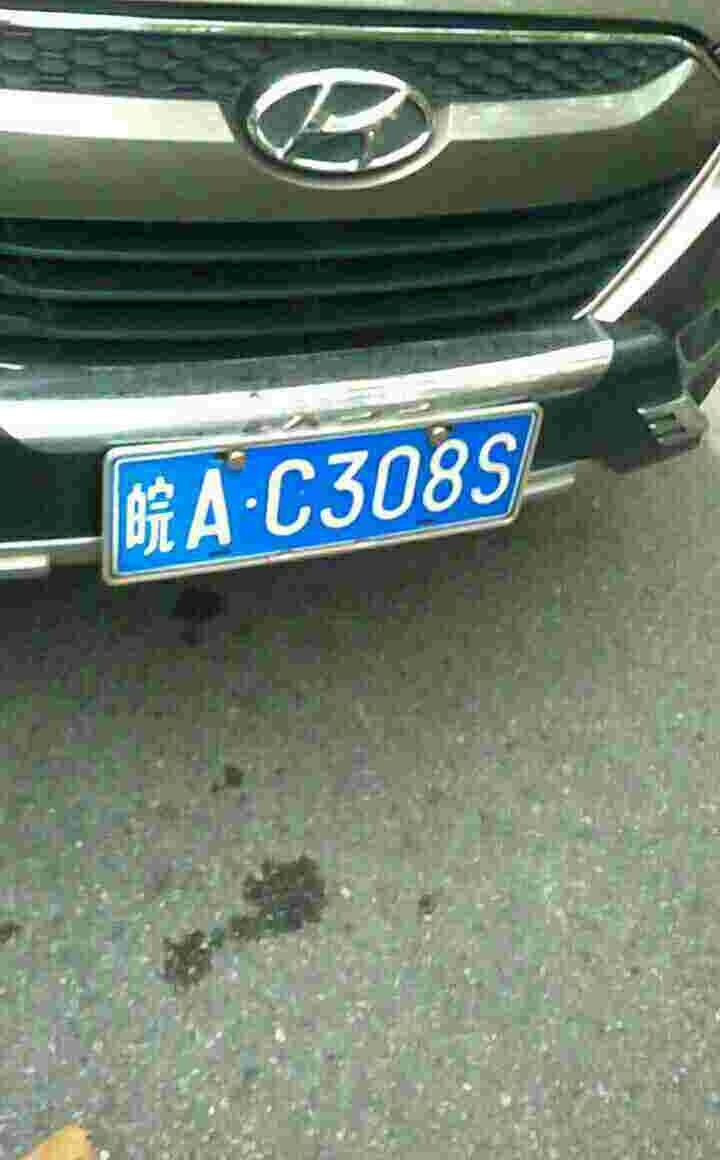license_plate: (107, 406, 538, 574)
